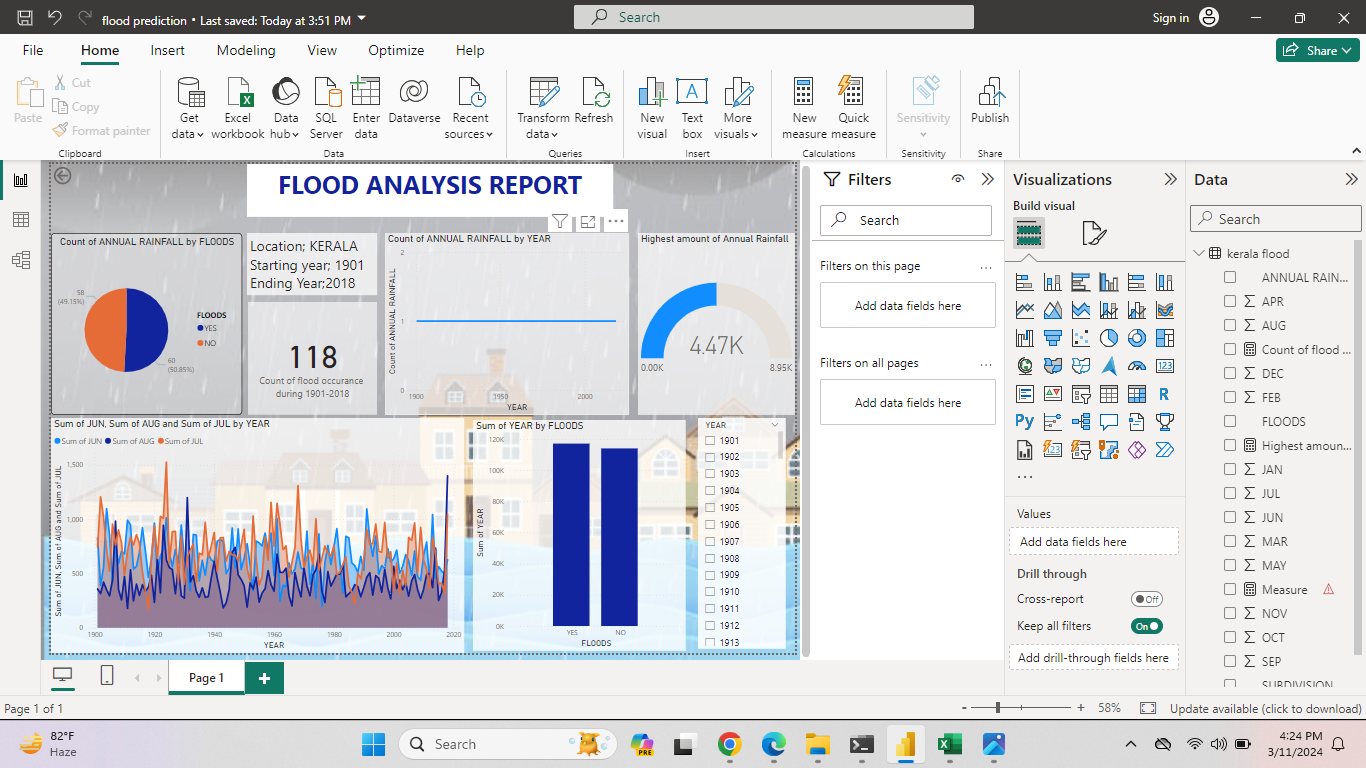

The page's visual inventory and layout, read from the dashboard file:
{"tool":"powerbi","page":{"name":"Page 1","canvas":[1280,841],"ordinal":0},"visuals":[{"type":"textbox","box":[337.6,0,629.9,90.7],"z":0},{"type":"pieChart","fields":{"Category":["kerala flood.FLOODS"],"Y":["CountNonNull(kerala flood.ANNUAL RAINFALL)"]},"box":[0,118.7,328.6,313.1],"z":1},{"type":"slicer","fields":{"Values":["kerala flood.YEAR"]},"box":[1113.1,437,151.4,397.4],"z":2},{"type":"actionButton","box":[0,0,100,40],"z":3},{"type":"gauge","fields":{"Y":["kerala flood.Highest amount of Annual Rainfall"]},"box":[1009.9,118.7,270.1,313.1],"z":4},{"type":"card","fields":{"Values":["kerala flood.Count of flood occurance during 1901-2018"]},"box":[338.9,237.4,221.9,194.4],"z":6},{"type":"areaChart","fields":{"Category":["kerala flood.YEAR"],"Y":["Sum(kerala flood.JUN)","Sum(kerala flood.AUG)","Sum(kerala flood.JUL)"]},"box":[0,437,710.5,404.3],"z":7},{"type":"columnChart","fields":{"Category":["kerala flood.FLOODS"],"Y":["Sum(kerala flood.YEAR)"]},"box":[726,440.4,366.5,397.4],"z":8},{"type":"textbox","box":[337.2,118.7,223.7,106.7],"z":9},{"type":"lineChart","fields":{"Category":["kerala flood.YEAR"],"Y":["CountNonNull(kerala flood.ANNUAL RAINFALL)"]},"box":[574.6,118.7,419.8,313.1],"z":10}]}

Visuals, with their boxes on the page's 1280x841 design canvas (x1, y1, x2, y2). These are canvas units, not pixel positions in the 1366x768 screenshot, which may show the page scaled, cropped or inside an application window:
textbox: (338, 0, 968, 91)
pieChart - kerala flood.FLOODS x CountNonNull(kerala flood.ANNUAL RAINFALL): (0, 119, 329, 432)
slicer - kerala flood.YEAR: (1113, 437, 1264, 834)
actionButton: (0, 0, 100, 40)
gauge - kerala flood.Highest amount of Annual Rainfall: (1010, 119, 1280, 432)
card - kerala flood.Count of flood occurance during 1901-2018: (339, 237, 561, 432)
areaChart - kerala flood.YEAR x Sum(kerala flood.JUN): (0, 437, 710, 841)
columnChart - kerala flood.FLOODS x Sum(kerala flood.YEAR): (726, 440, 1092, 838)
textbox: (337, 119, 561, 225)
lineChart - kerala flood.YEAR x CountNonNull(kerala flood.ANNUAL RAINFALL): (575, 119, 994, 432)
